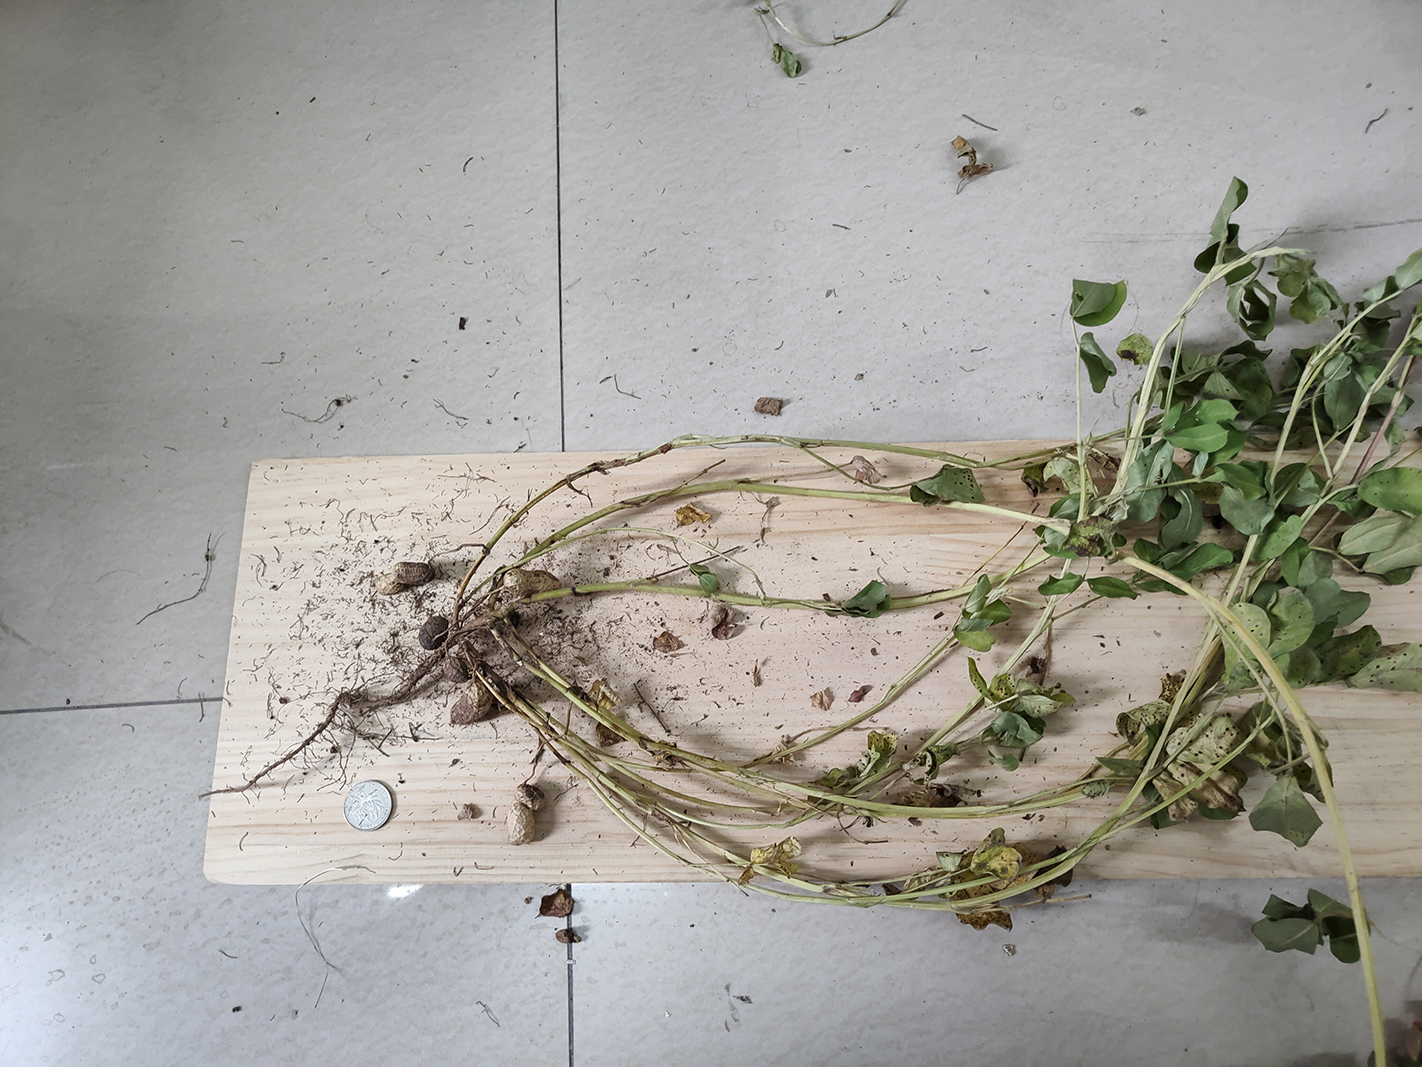h: (506, 782, 543, 844), (502, 567, 564, 595)
l: (377, 562, 436, 596), (453, 681, 495, 725), (418, 616, 450, 650), (443, 656, 470, 683)
